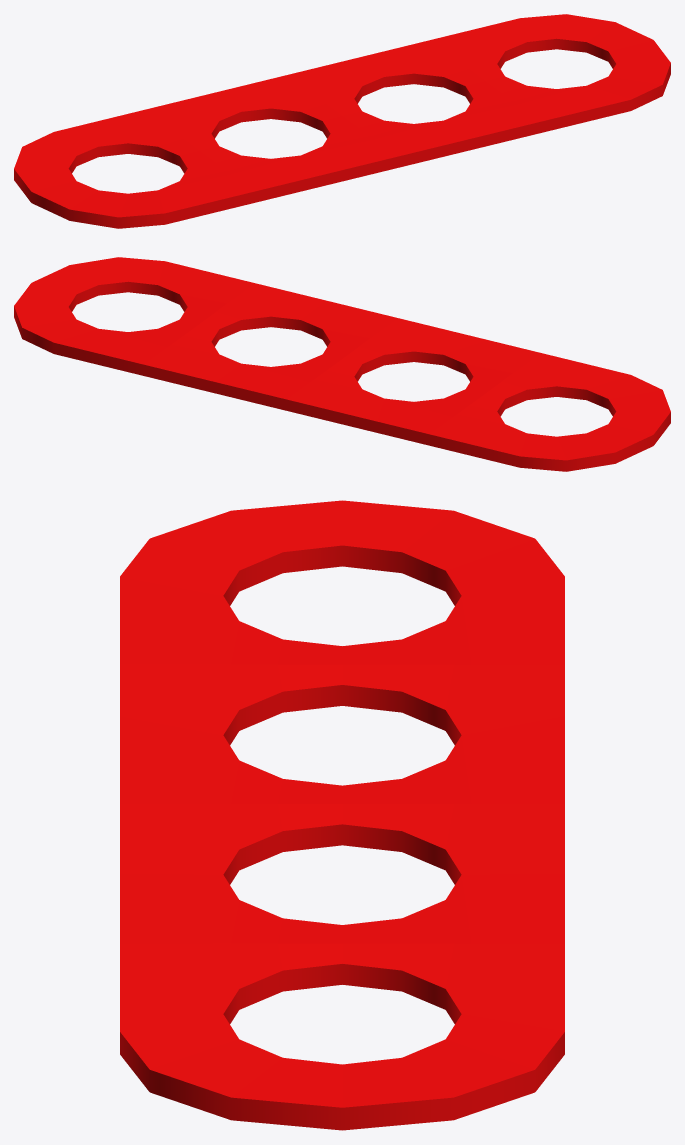
The model's file is FourLongRed.fbx.
The picture shows the model from 3 angles, top to bottom: view 1: azimuth 30°, elevation 25°; view 2: azimuth 150°, elevation 25°; view 3: azimuth 270°, elevation 25°; orthographic projection. The views are drawn at different scales.
Visible parts, largest first — view 1: Blue4; view 2: Blue4; view 3: Blue4.
Boxes of the visible parts, box(x1,y1,x2,y2) form: Blue4: box(14, 14, 670, 228); Blue4: box(14, 257, 670, 471); Blue4: box(120, 500, 564, 1130).
Size of the model in its own units: 11.13 by 0.1942 by 3.45.
